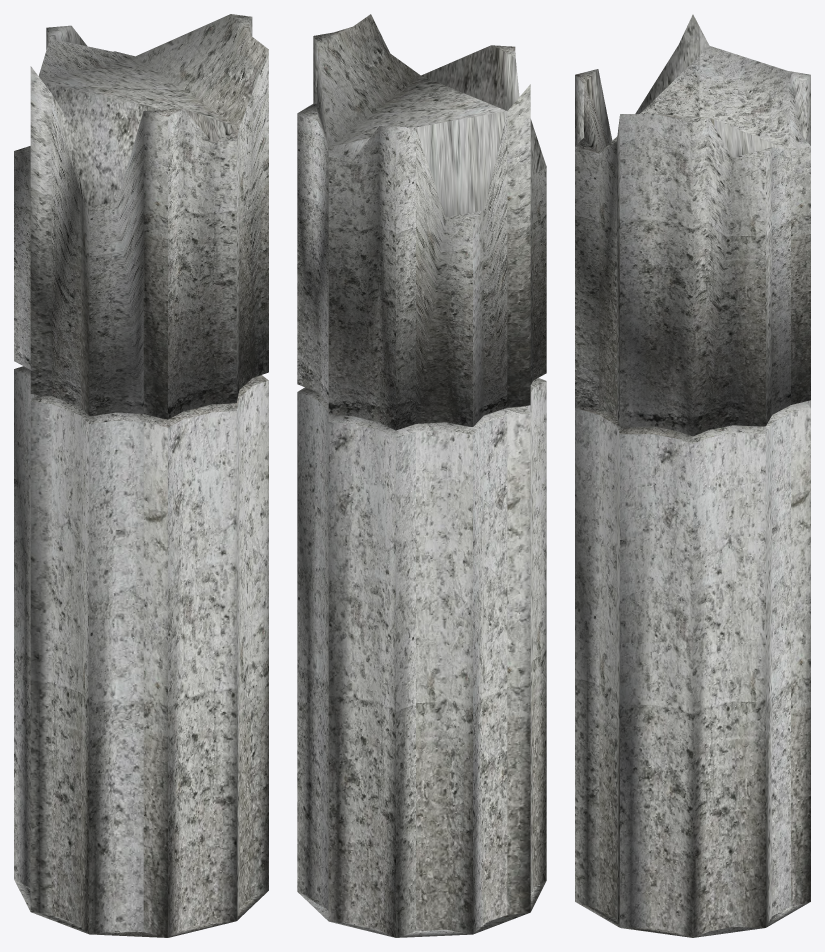
Rendered from Ruin_PillarStub.glb.
3 renders of one model, left to right at view 1: azimuth 30°, elevation 25°; view 2: azimuth 150°, elevation 25°; view 3: azimuth 270°, elevation 25°, orthographic. The views are drawn at different scales.
Parts seen in each view (by area): view 1: PillarSegmentOne200; view 2: PillarSegmentOne200; view 3: PillarSegmentOne200.
Part boxes in pixels (x1,y1,x2,y2): PillarSegmentOne200: (14, 14, 268, 937); PillarSegmentOne200: (297, 14, 546, 937); PillarSegmentOne200: (575, 14, 810, 937).
Size of the model in its own units: 0.4116 by 1.5 by 0.3914.
1 material, 1 textured.
